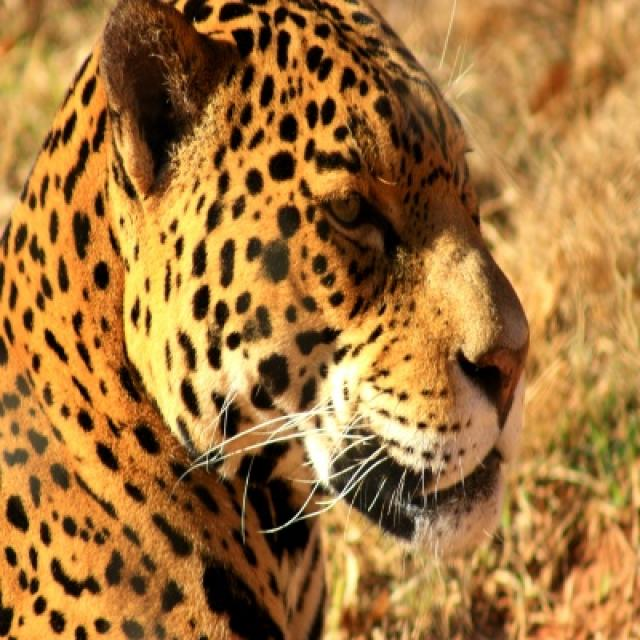Jaguar: (0, 0, 531, 638)
